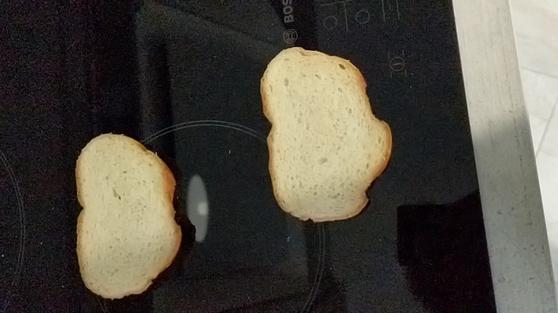white_bread: (257, 41, 396, 228), (72, 127, 186, 305)
